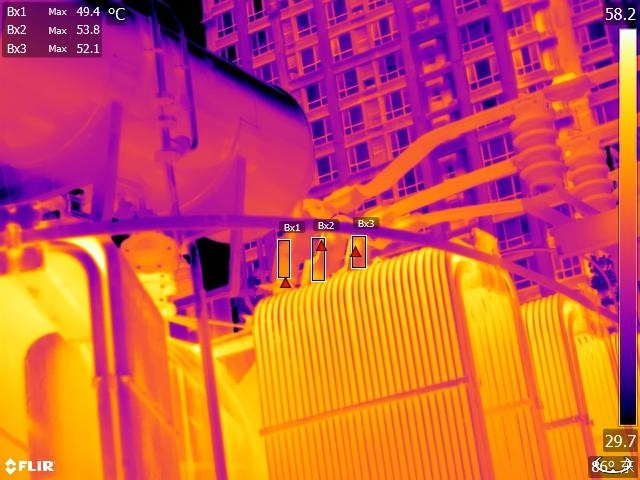oil conservator: (1, 1, 323, 253)
post insulator: (507, 98, 570, 196), (563, 134, 614, 215)
transformer: (254, 239, 625, 480)
